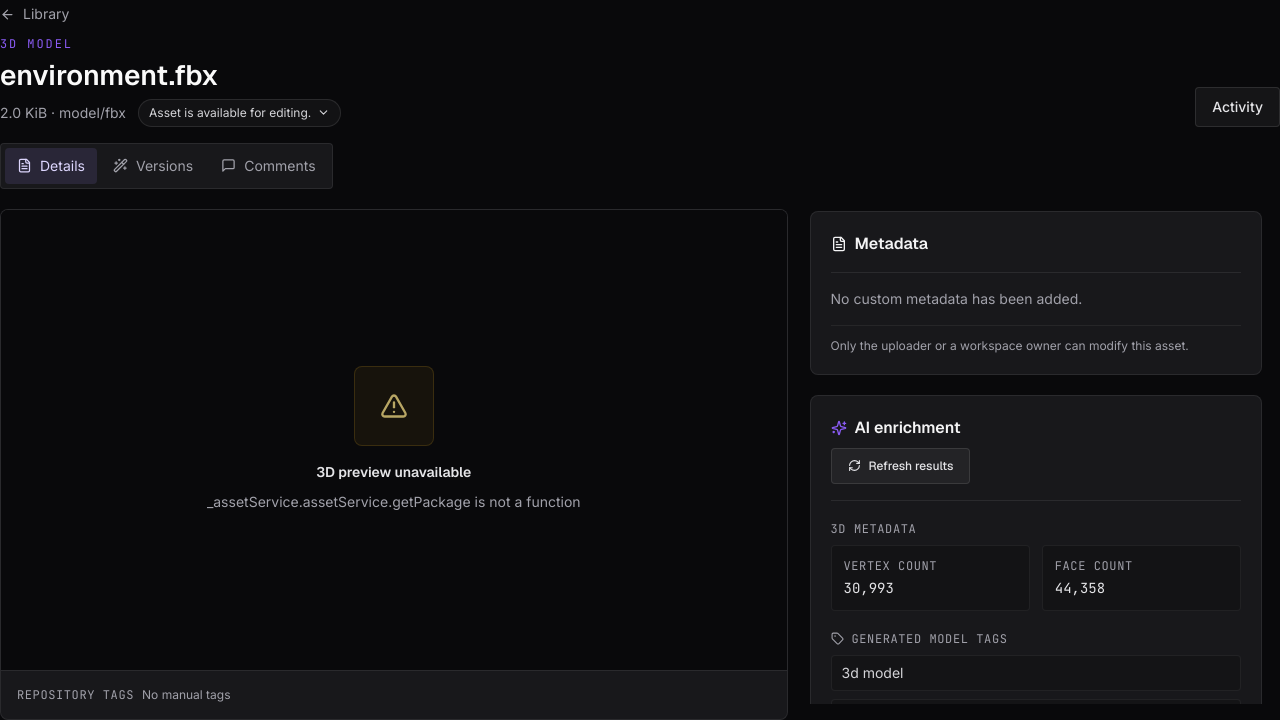
Test: Activity opens as a drawer and preserves the selected Comments tab and draft when closed
Click the tab "Comments" at (268, 166), box [209,148,328,184]
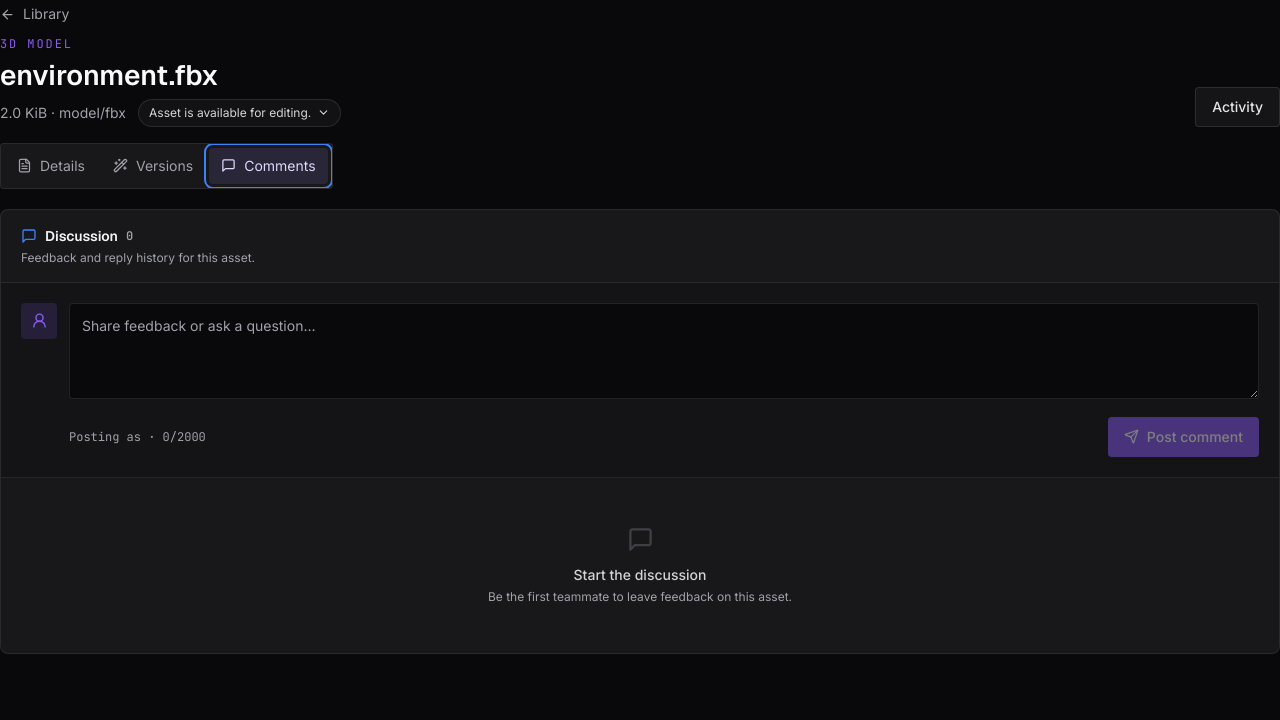
Type "Keep this draft" into the text box named "Comment" at (664, 350), box [69,302,1259,398]
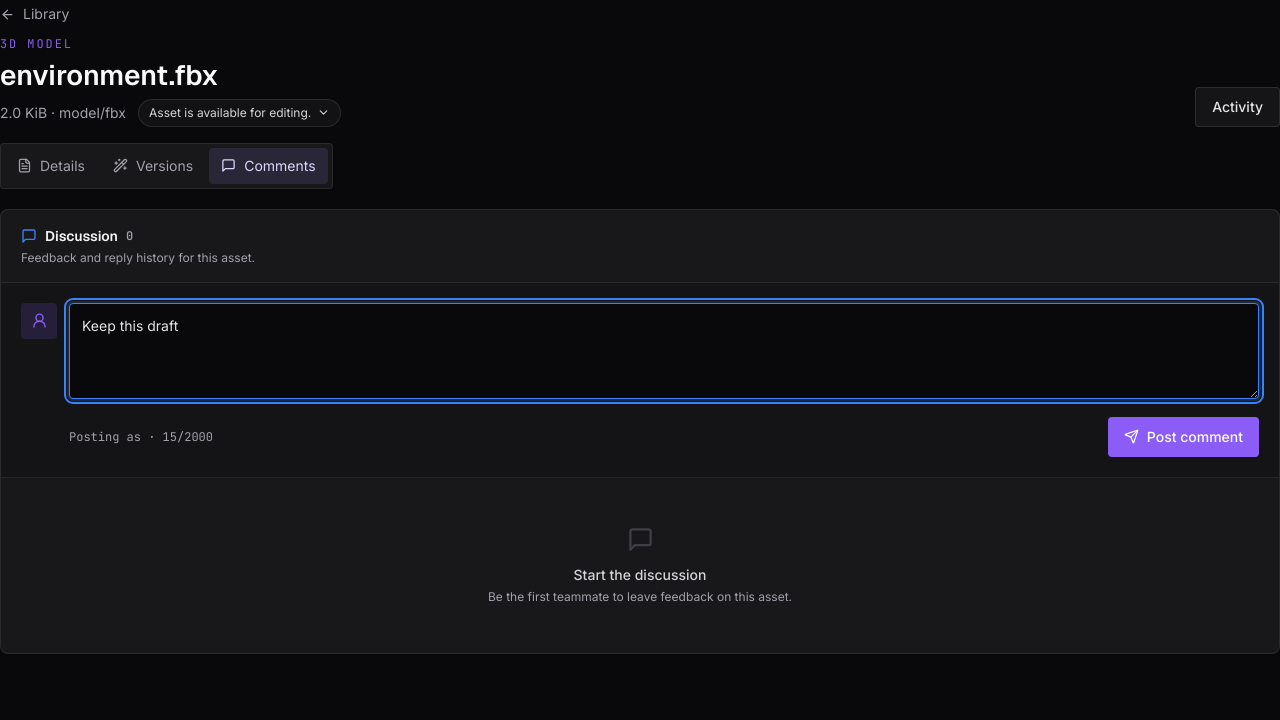
Expected: the number of tabs is 3, [5,148,97,184]; [101,148,205,184]; [209,148,328,184]
Click the button "Activity" at (1238, 106), box [1195,86,1279,126]
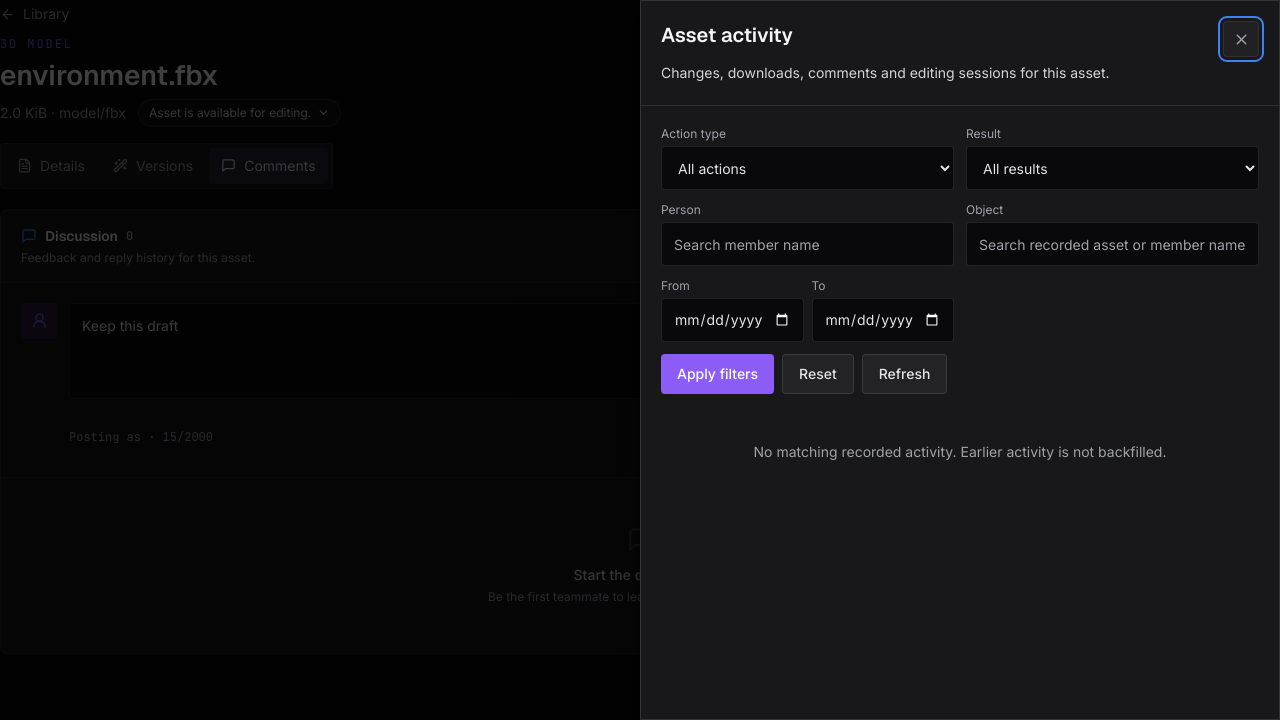
Expected: the dialog "Asset activity" is shown, [640,0,1279,719]
Press Escape
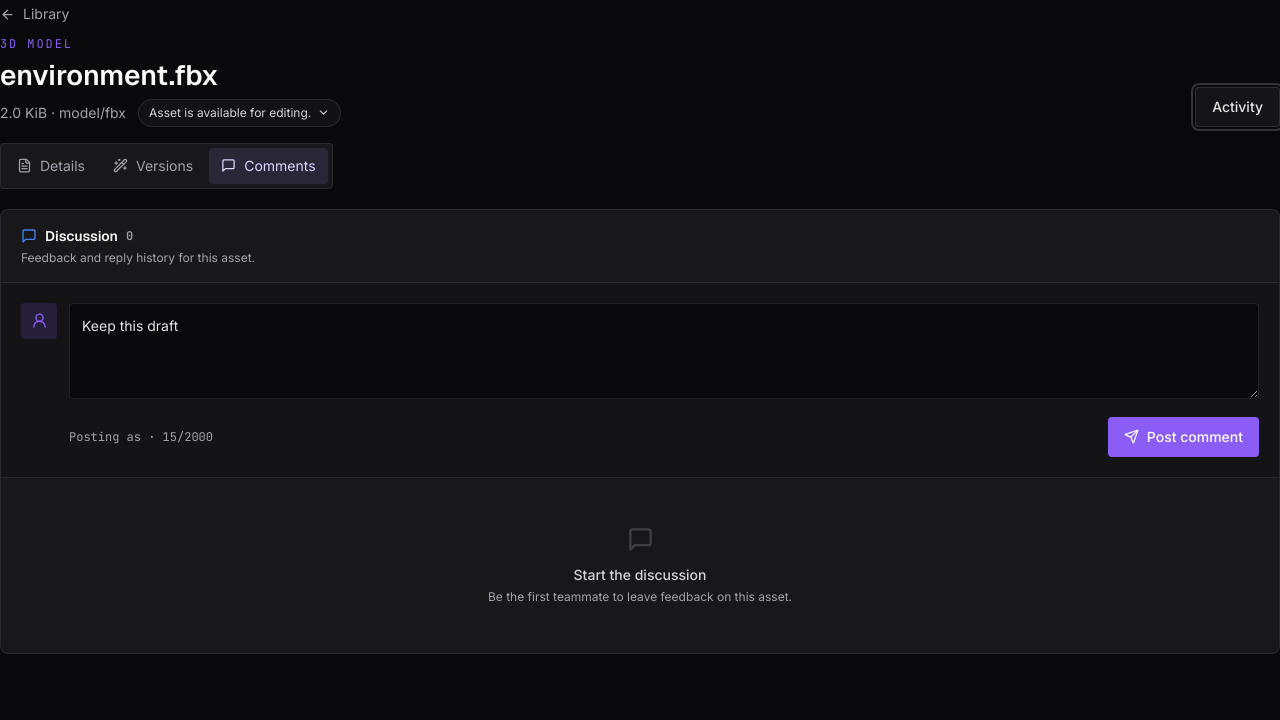
Expected: the number of tabs is 3, [5,148,97,184]; [101,148,205,184]; [209,148,328,184]
Expected: the tab "Comments" is selected, [209,148,328,184]
